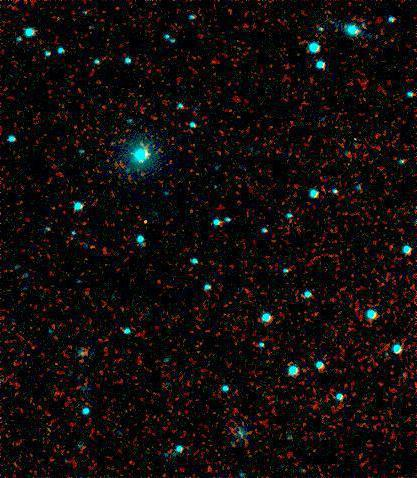star: (133, 207, 163, 237)
